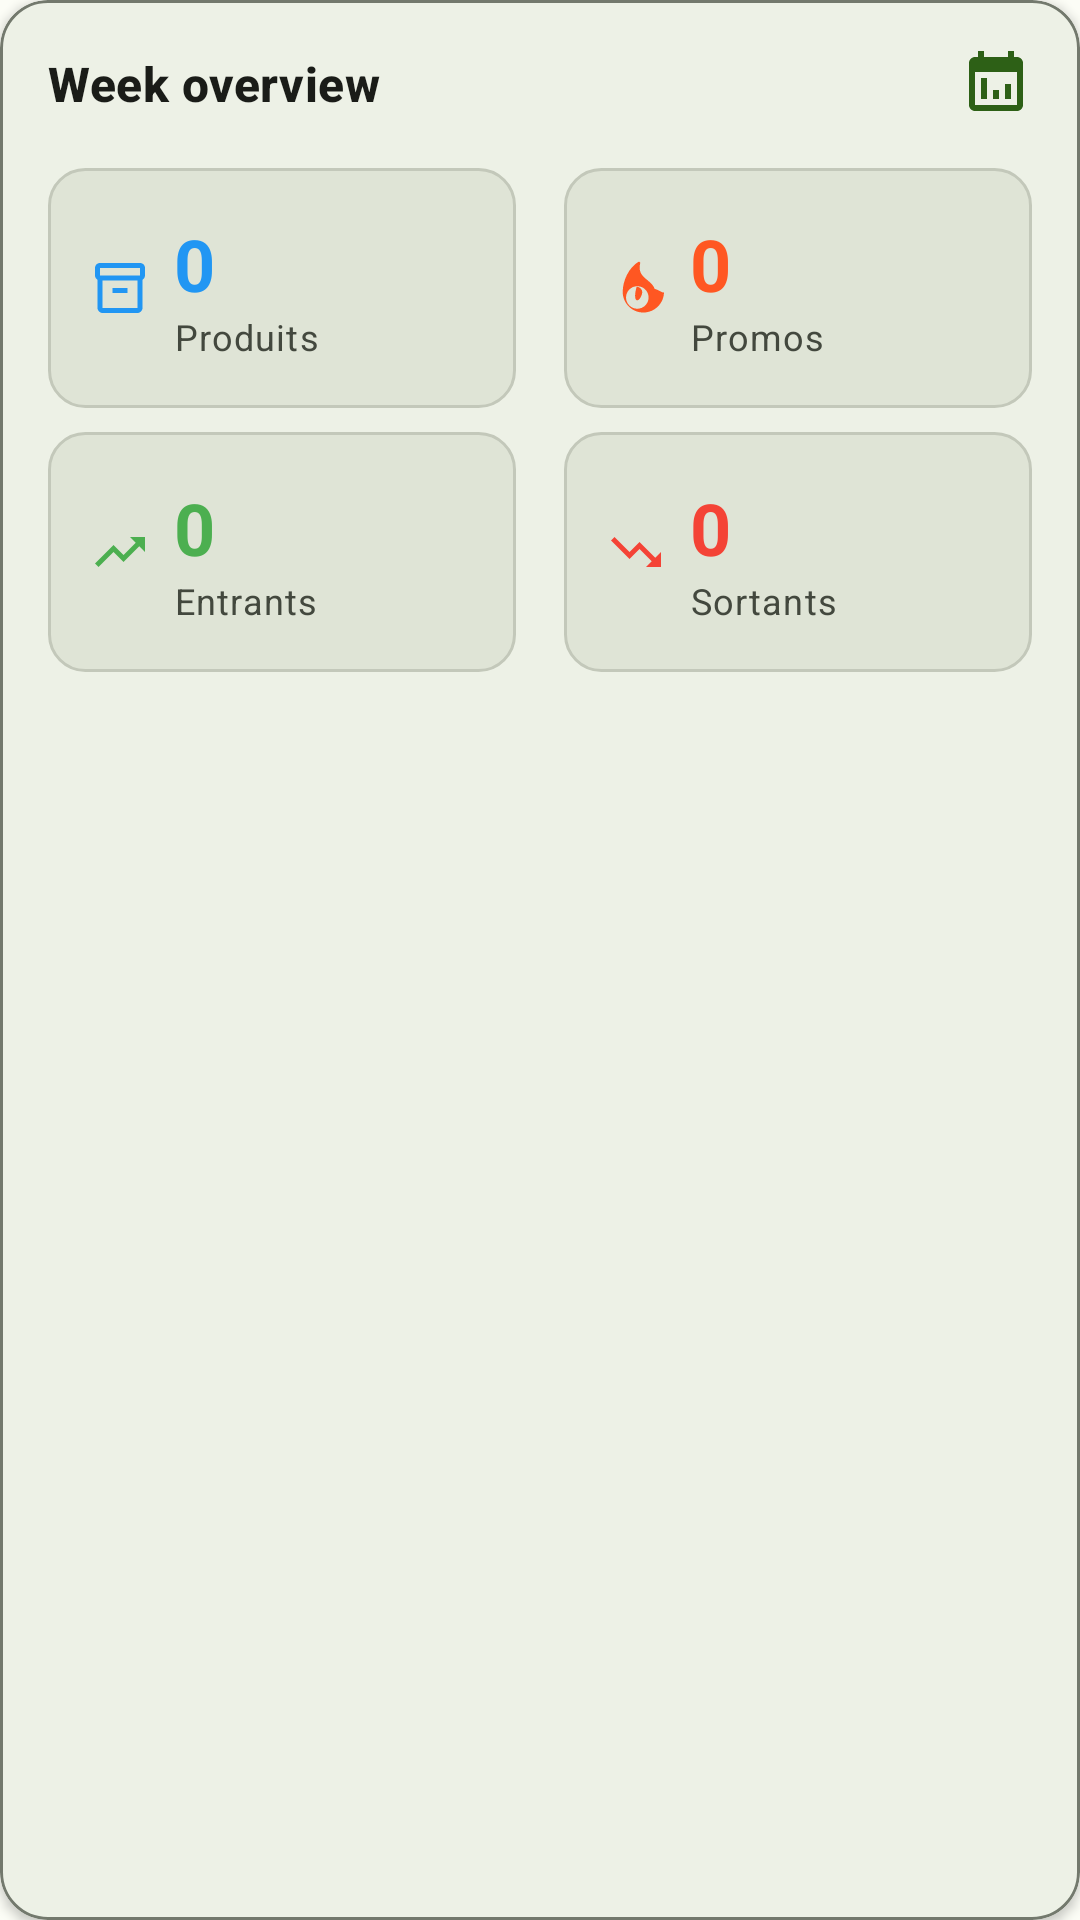

Screen size 1080px×1920px. Icon name, then its box in pixels as {"x1": x1, "y1": y1, "x2": x2, "y2": y2}:
analytics: {"x1": 969, "y1": 51, "x2": 1023, "y2": 111}
inventory: {"x1": 95, "y1": 263, "x2": 145, "y2": 313}
local fire department: {"x1": 622, "y1": 262, "x2": 664, "y2": 313}
trending down: {"x1": 611, "y1": 537, "x2": 661, "y2": 567}
trending up: {"x1": 95, "y1": 537, "x2": 145, "y2": 567}
